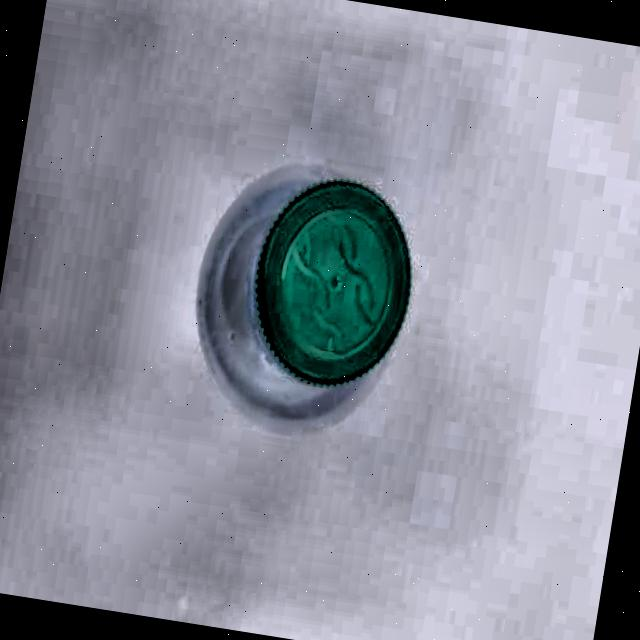plastic: (183, 146, 429, 439)
